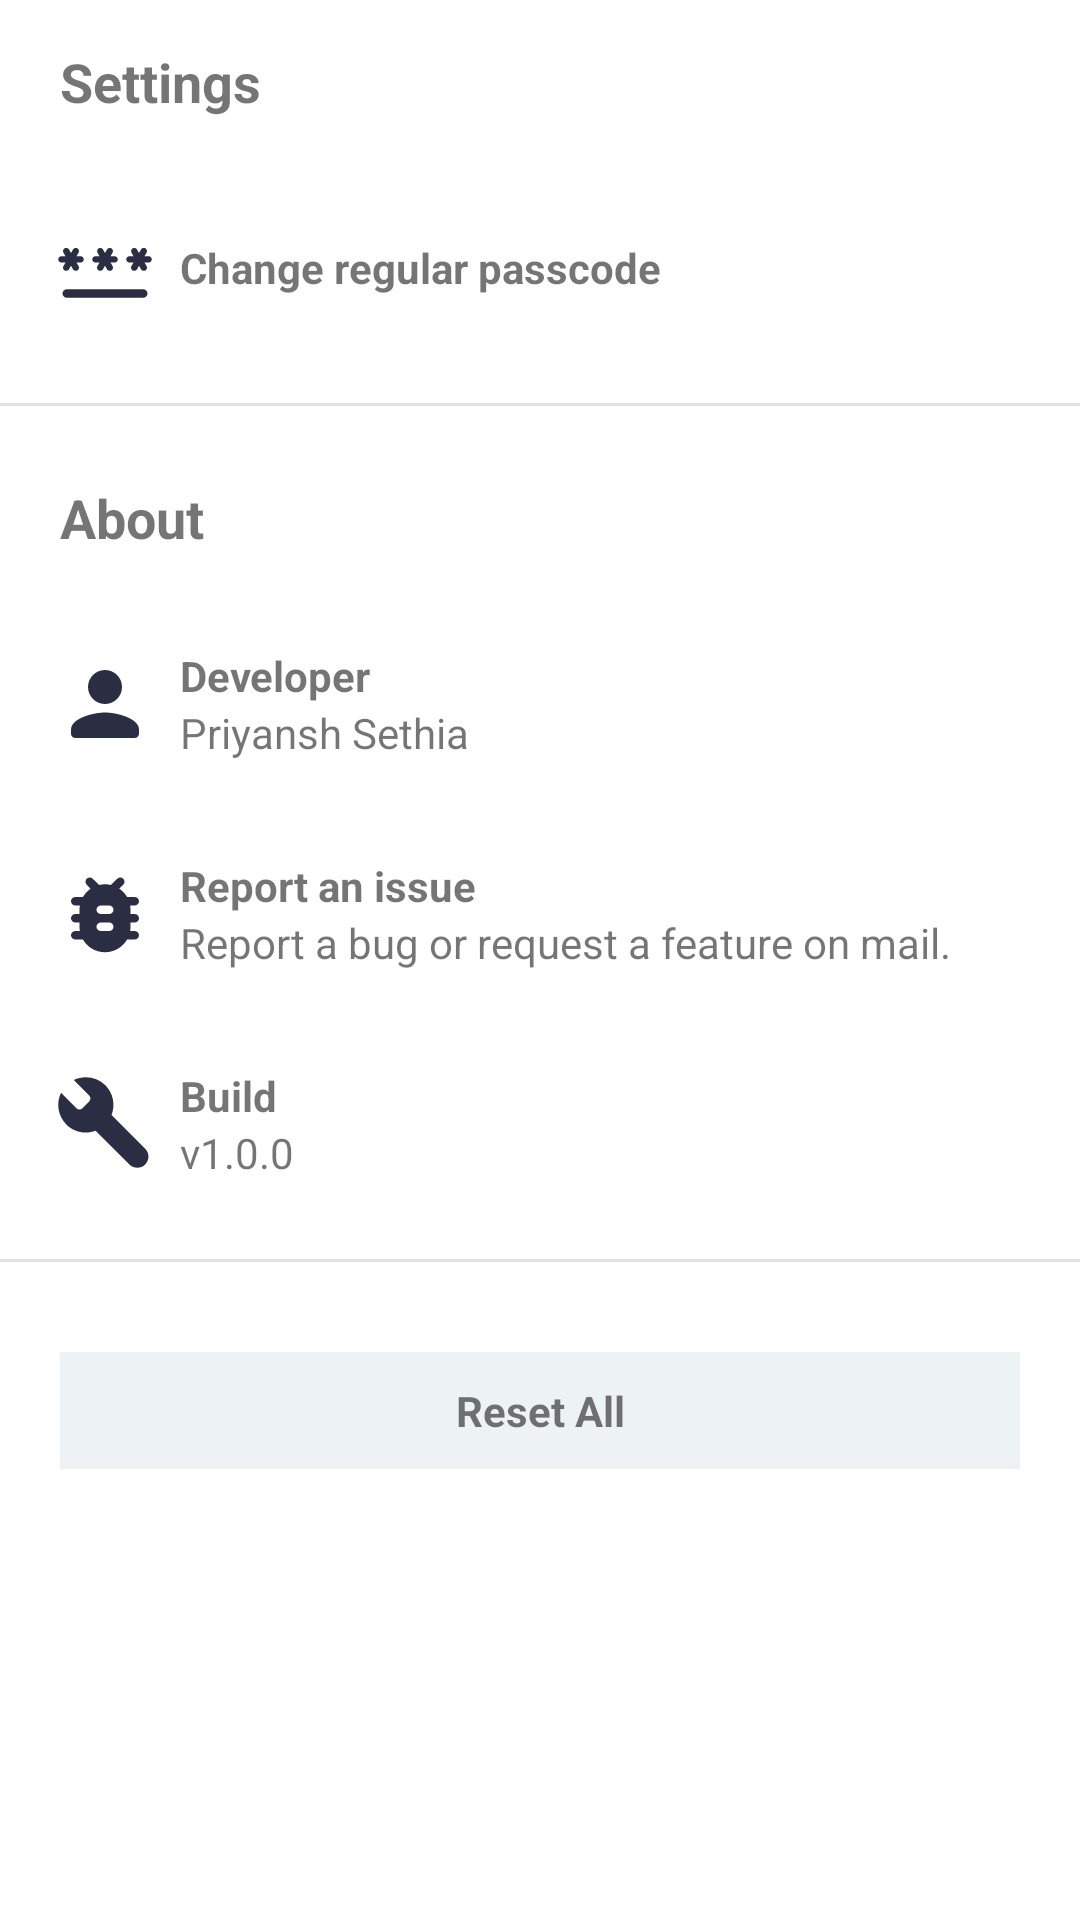

Icon click points for this 1080*1920 phone screenshot, format point (x, y):
Person: point (105, 704)
